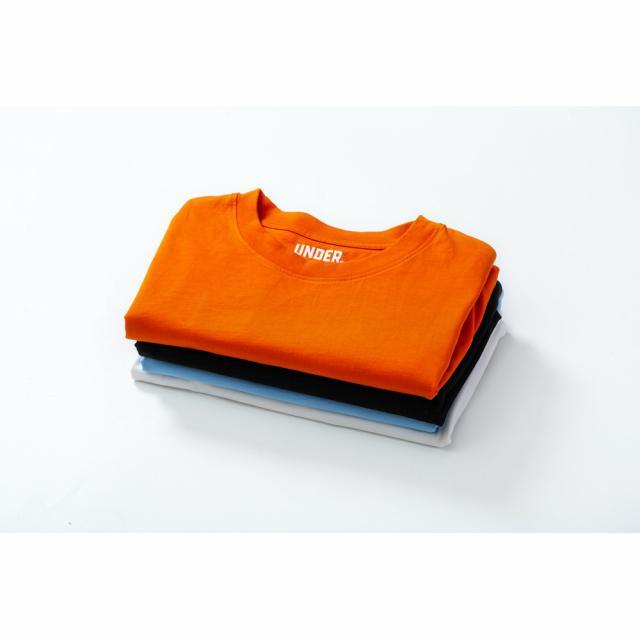Shirt: (130, 186, 504, 405)
